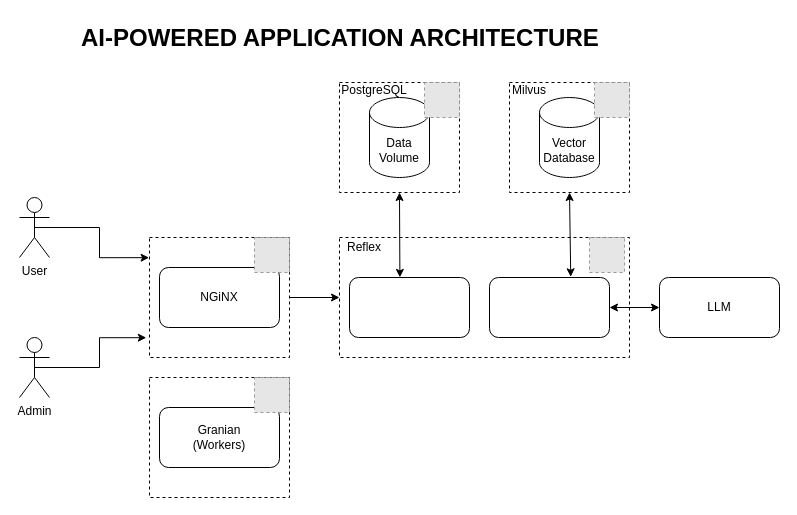
This 797x515 diagram has some shape labels left out. Grey dashed boxes stand in for pictures. The shapes that lost their labels are listed below. From the top down, each one's centre as x and y in pixels, then its label:
At (409,307): "RAG App (Frontend)".
At (549,307): "Prompt Cache (Backend)".
